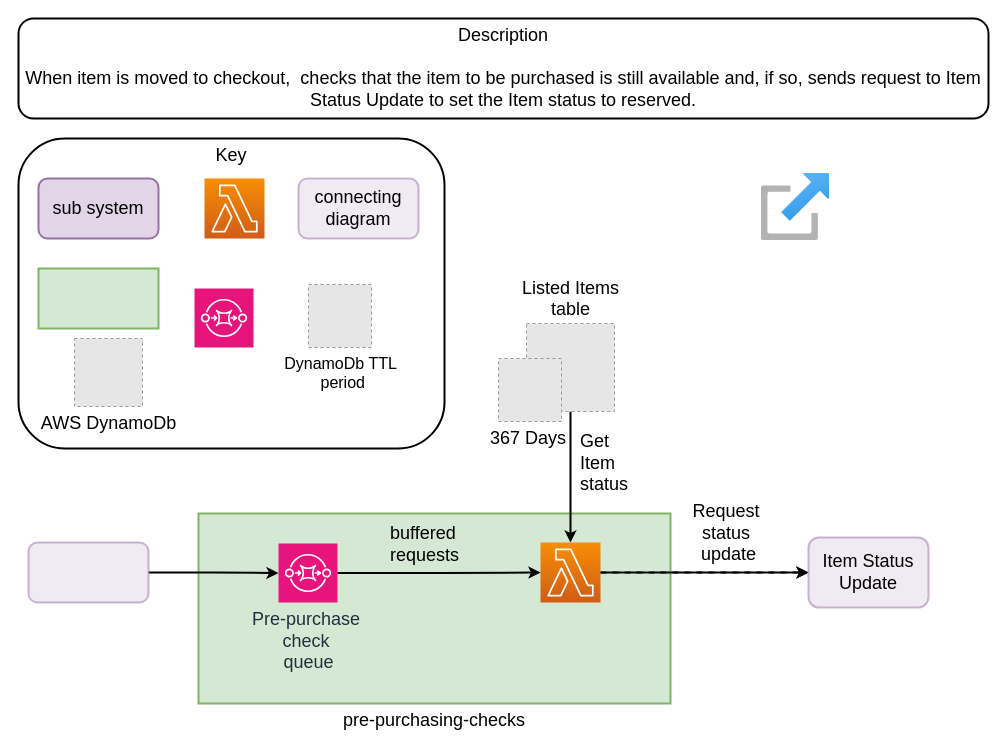
The diagram is 1006 pixels wide and 749 high, and some of its shapes have lost their labels. Grey dashed boxes stand in for pictures. Each missing label, with the centre of its shape:
AWS Lambda: the point at 234,208
AWS SQS: the point at 223,317
Code repo: the point at 98,298
Parent: the point at 795,206
Pre-Purchase Check: the point at 570,572
Purchase Request Handling: the point at 88,572
